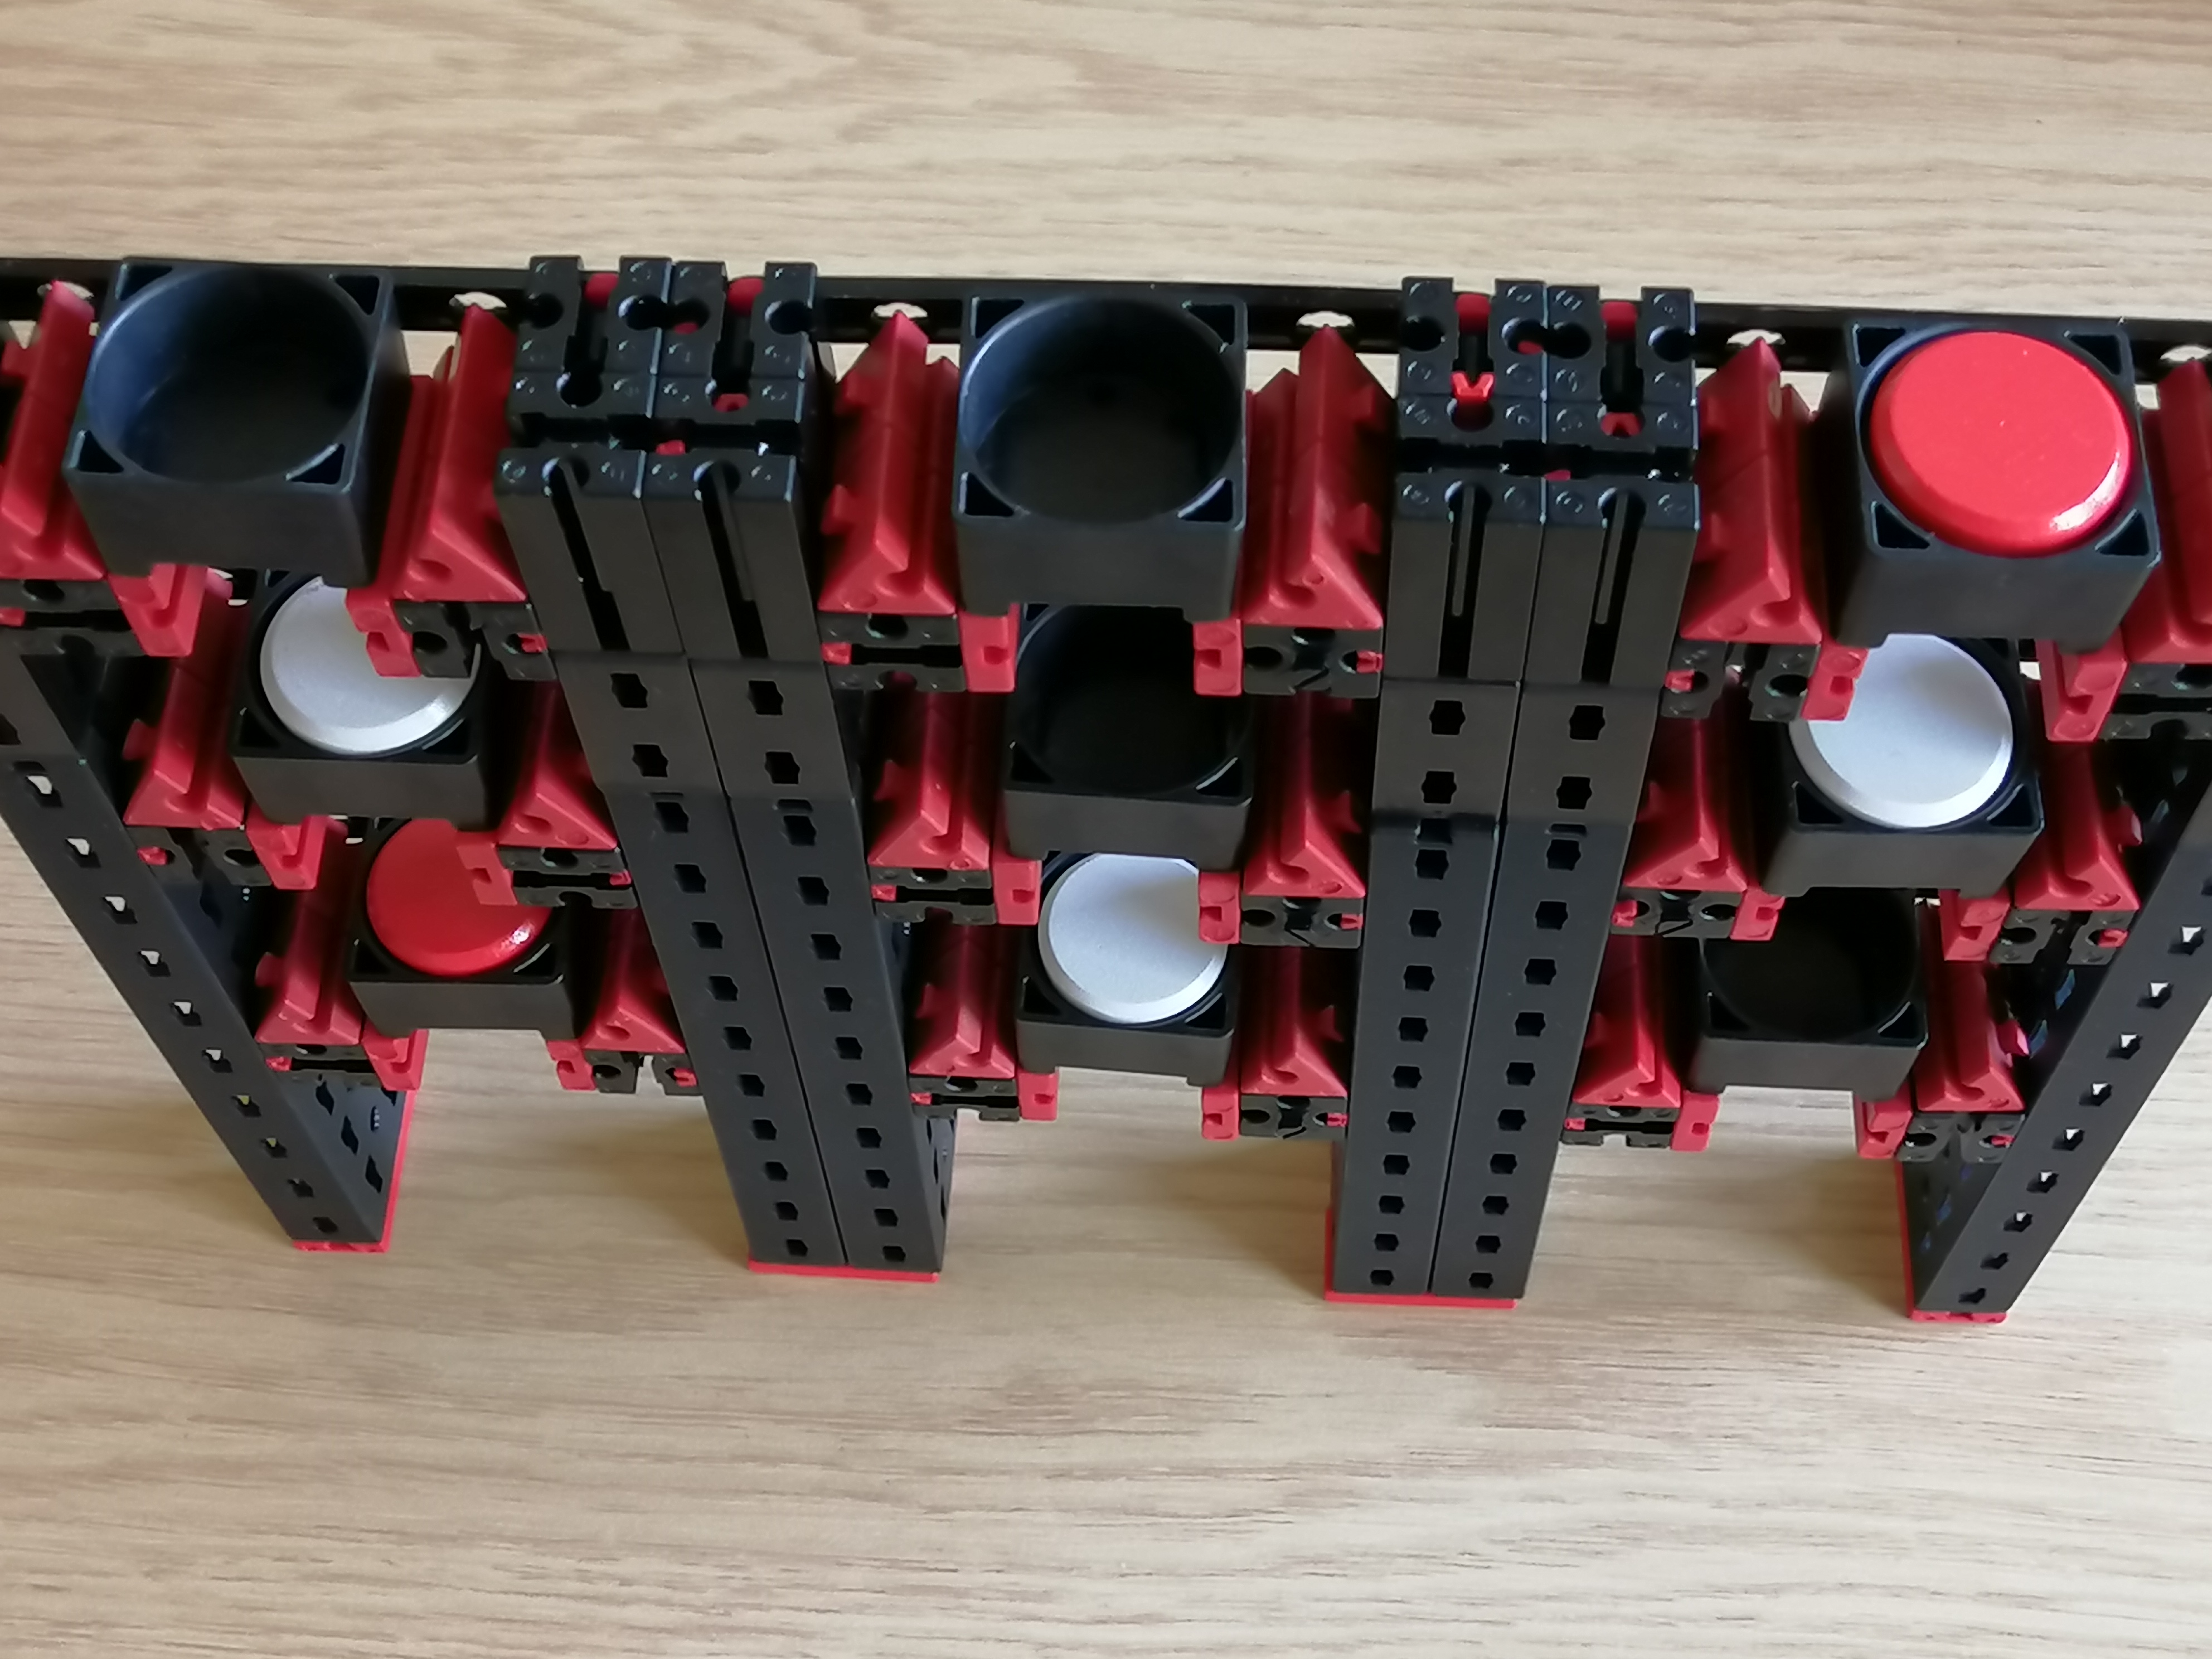Behaelter: (80, 261, 390, 577), (954, 293, 1245, 615), (1817, 326, 2109, 636), (1756, 727, 2019, 901), (1001, 699, 1256, 868), (239, 671, 502, 826), (1677, 945, 1916, 1094), (1015, 927, 1245, 1080), (340, 901, 585, 1028)
WerkStueck: (1872, 331, 2125, 540), (1860, 648, 2008, 823), (1049, 861, 1198, 1019), (1055, 856, 1193, 1016), (254, 587, 359, 746), (371, 835, 469, 972)
